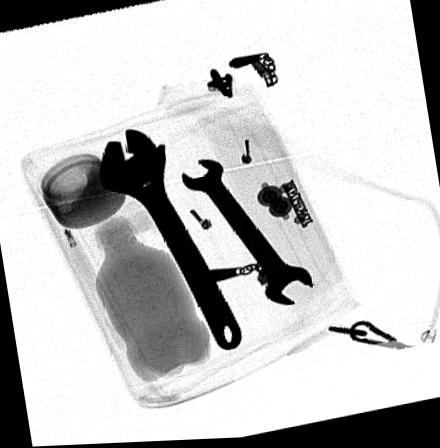Wrench: (96, 130, 244, 355), (181, 158, 316, 310)
